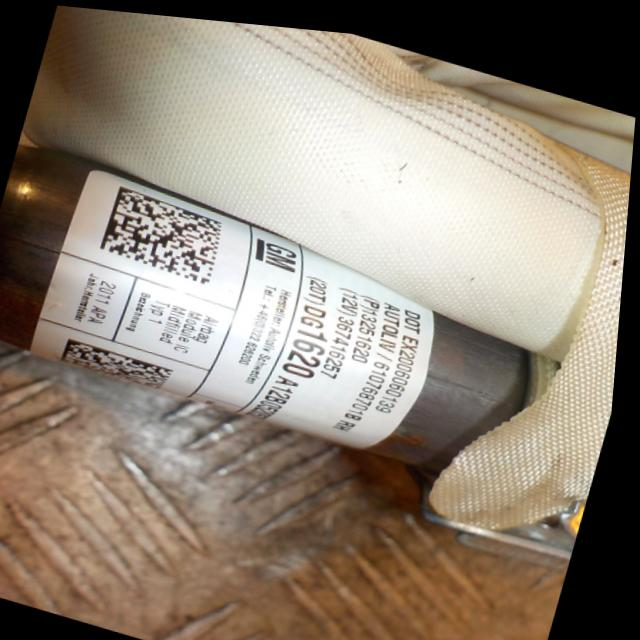datamatrix: (102, 183, 232, 282), (64, 336, 182, 390)
